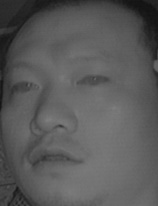eye: (76, 68, 107, 91), (11, 76, 41, 97)
mouth: (27, 141, 88, 173)
